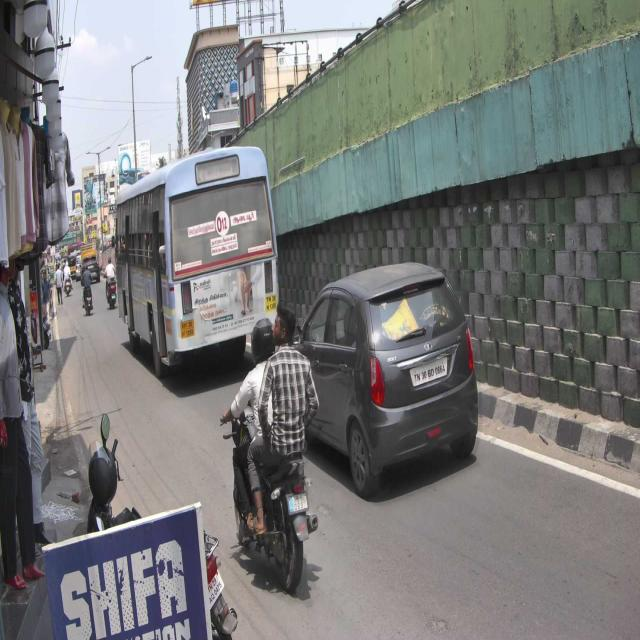double_rider: (228, 299, 322, 597)
